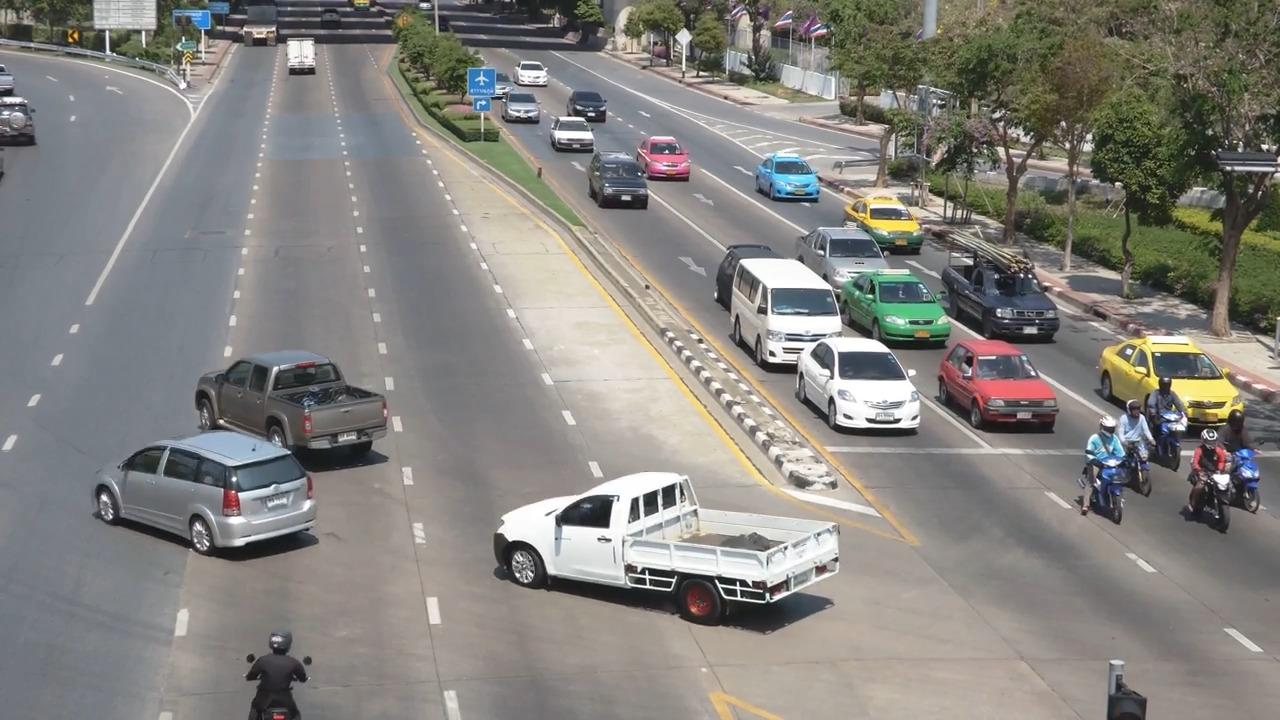CAR: (486, 441, 849, 634), (83, 418, 335, 569), (197, 345, 393, 461), (1087, 317, 1255, 434), (793, 331, 931, 438), (734, 252, 848, 372), (940, 335, 1061, 444), (930, 233, 1050, 341), (843, 265, 945, 343), (791, 215, 880, 287), (836, 183, 916, 246), (588, 149, 659, 218), (743, 143, 819, 207), (0, 98, 61, 175), (269, 30, 332, 95), (629, 127, 702, 182), (555, 78, 610, 128), (548, 113, 604, 158), (507, 51, 555, 92), (500, 86, 541, 125)
HGV_BUS: (229, 2, 288, 59)
MOTOR: (220, 613, 332, 720), (1167, 428, 1242, 530), (1069, 421, 1131, 520), (1140, 379, 1188, 469), (1109, 400, 1155, 490)
